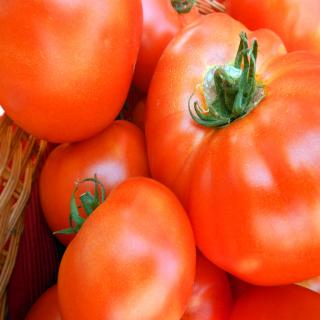tomato: (144, 8, 320, 288), (56, 173, 195, 320), (0, 0, 140, 141), (38, 120, 138, 246), (228, 282, 320, 320), (185, 252, 235, 319)
